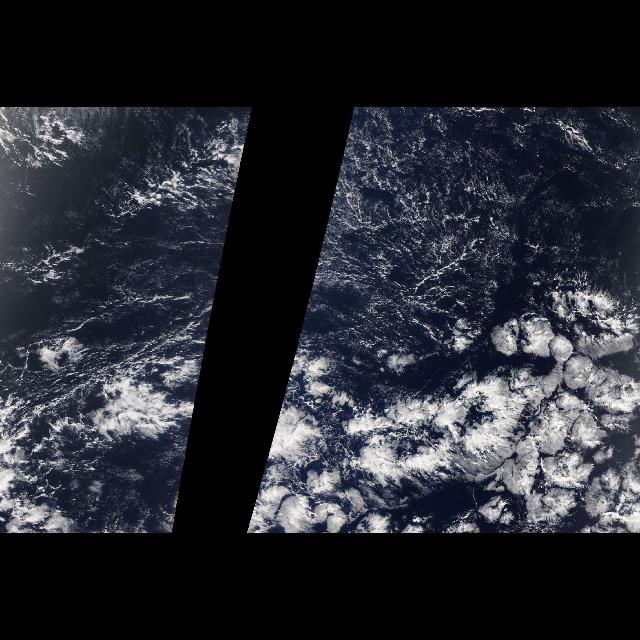Gravel: (350, 188, 500, 366)
Sugar: (354, 124, 496, 326)
